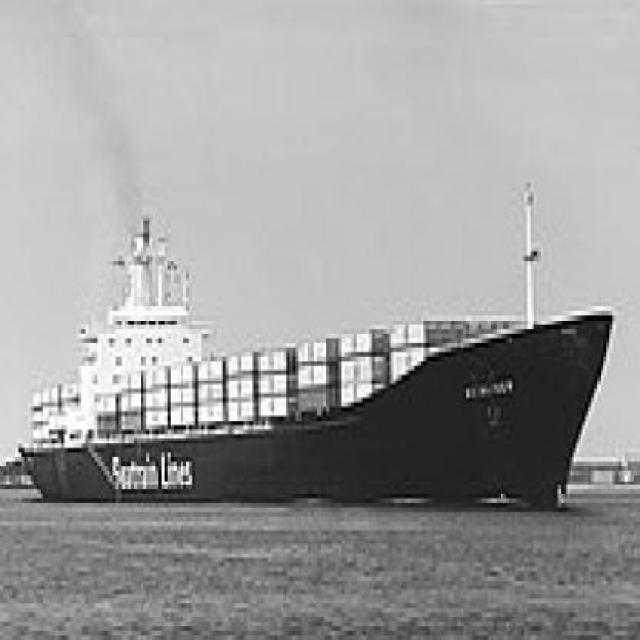container: (10, 166, 623, 527)
